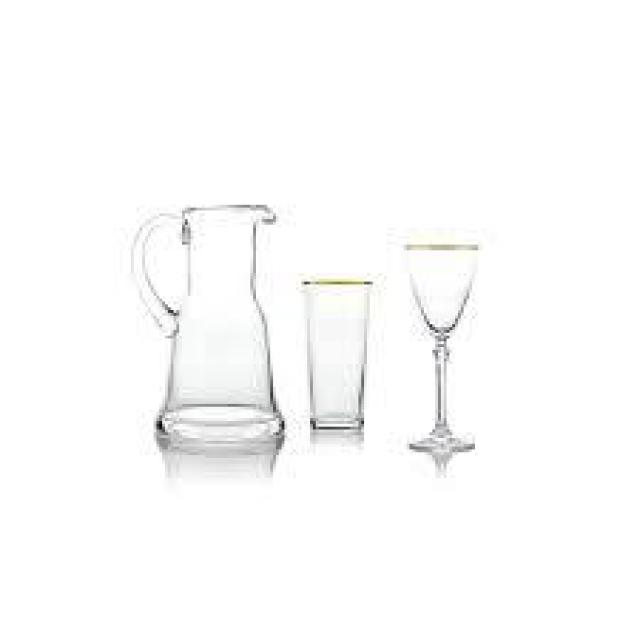non-organic waste: (122, 192, 290, 457), (397, 238, 488, 457), (294, 273, 377, 441)
